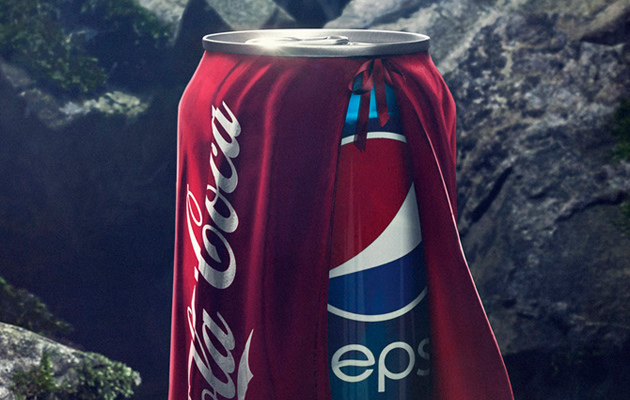pepsi: (322, 128, 428, 322), (322, 133, 428, 322)
